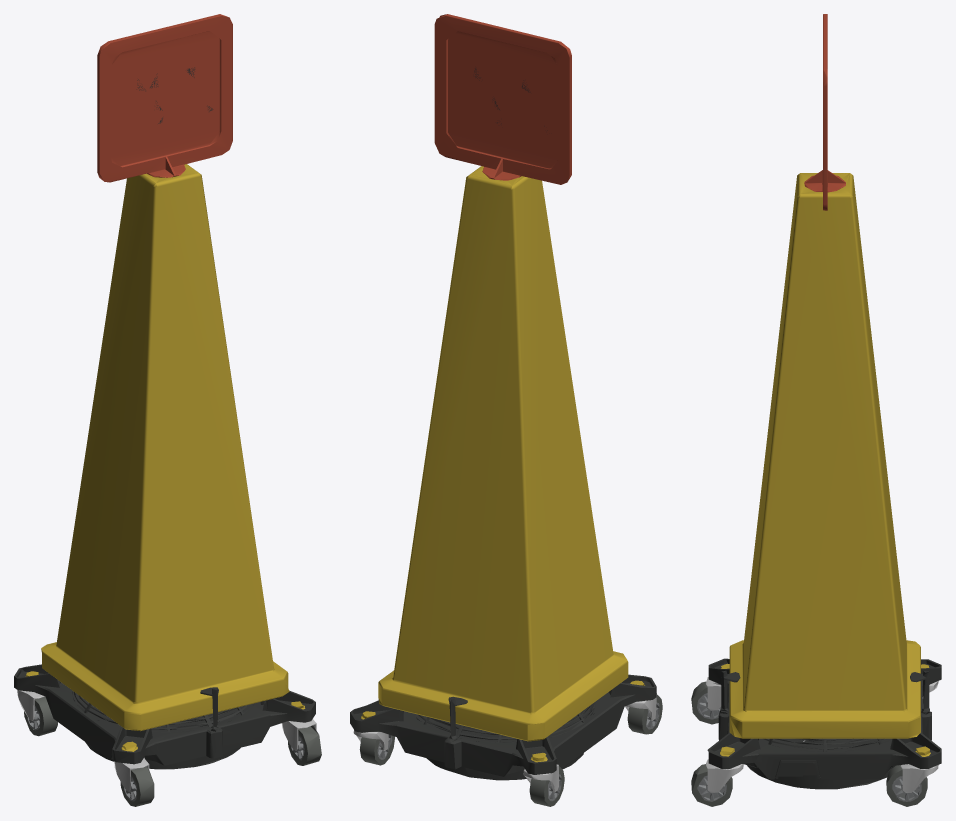
Rendered from sign_cone.glb.
The picture shows the model from 3 angles, left to right: view 1: azimuth 30°, elevation 25°; view 2: azimuth 150°, elevation 25°; view 3: azimuth 270°, elevation 25°; orthographic projection.
Visible parts, largest first — view 1: sign_cone_mesh; view 2: sign_cone_mesh; view 3: sign_cone_mesh.
Part boxes in pixels (<box>): sign_cone_mesh: <box>14,14,321,806</box>; sign_cone_mesh: <box>350,14,662,806</box>; sign_cone_mesh: <box>691,14,941,806</box>.
Bounding box in the file's own units: 0.3818 × 1.3 × 0.4084.
Materials: 7 (1 with a texture image).
